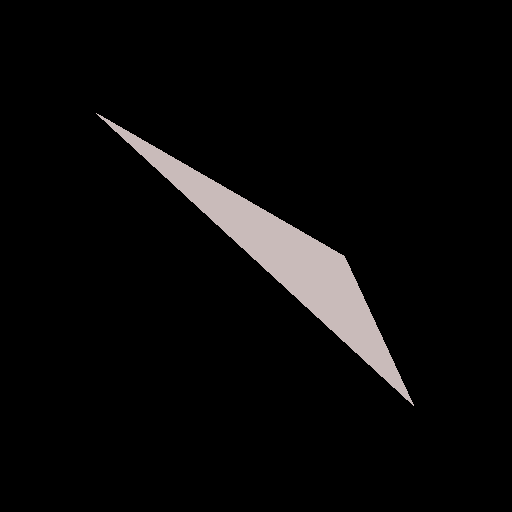triangle: (96, 113, 413, 405)
